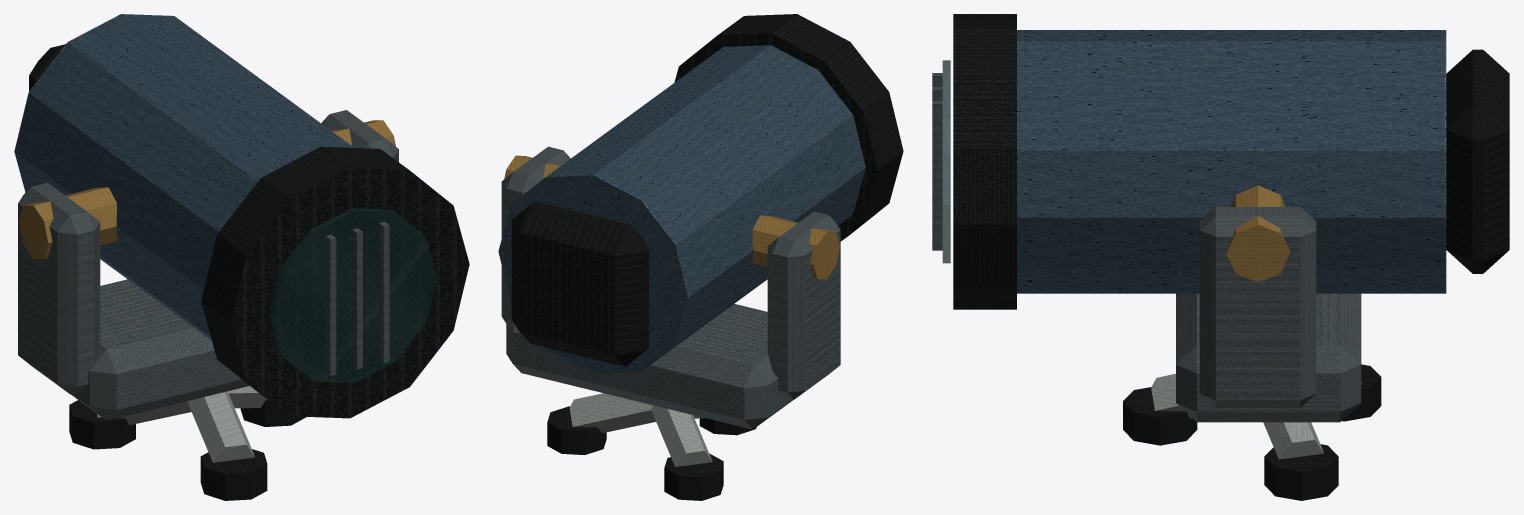
The model's file is blender_laser_grid_1.glb.
The picture shows the model from 3 angles, left to right: view 1: azimuth 30°, elevation 25°; view 2: azimuth 150°, elevation 25°; view 3: azimuth 270°, elevation 25°; orthographic projection. The views are drawn at different scales.
Parts seen in each view (by area): view 1: blender_laser_grid_1; view 2: blender_laser_grid_1; view 3: blender_laser_grid_1.
Boxes of the visible parts, x1,y1,x2,y2 form: blender_laser_grid_1: (14,14,469,500); blender_laser_grid_1: (498,14,903,500); blender_laser_grid_1: (932,14,1509,500).
Size of the model in its own units: 0.082 by 0.086 by 0.109.
6 materials, 6 textured.
